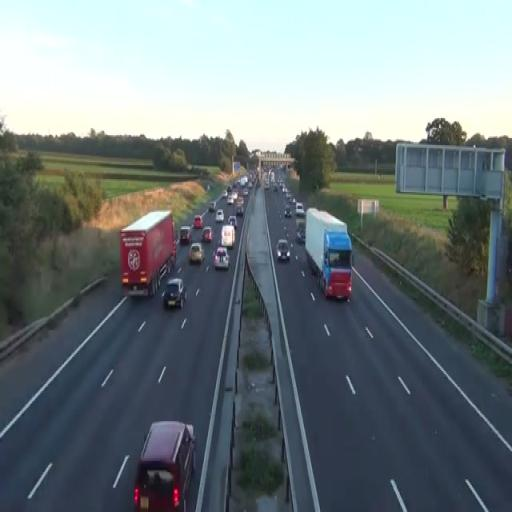Car: (134, 420, 196, 512), (162, 277, 186, 310), (213, 247, 230, 271), (276, 238, 290, 262), (190, 242, 204, 264), (221, 226, 235, 248), (180, 226, 192, 245), (202, 226, 212, 243), (193, 215, 204, 229), (228, 216, 237, 230), (216, 209, 224, 222), (285, 207, 292, 218)
Truck: (134, 420, 196, 512), (120, 209, 177, 299), (305, 207, 353, 301)
